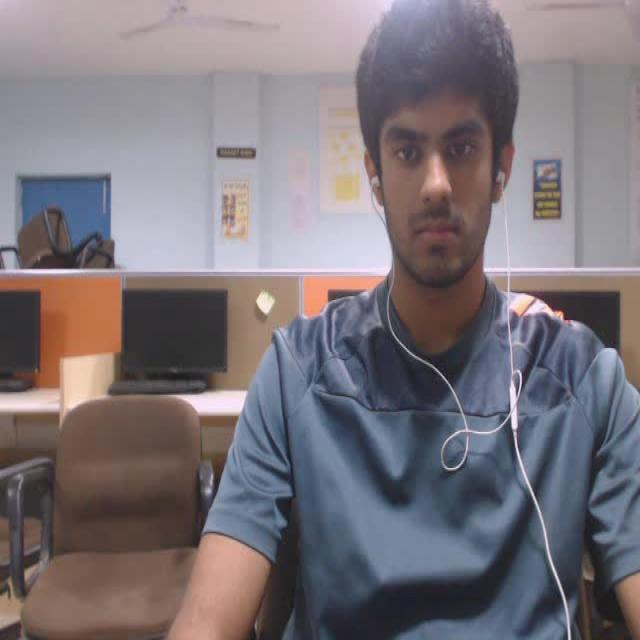Engaged: (343, 0, 532, 315)
